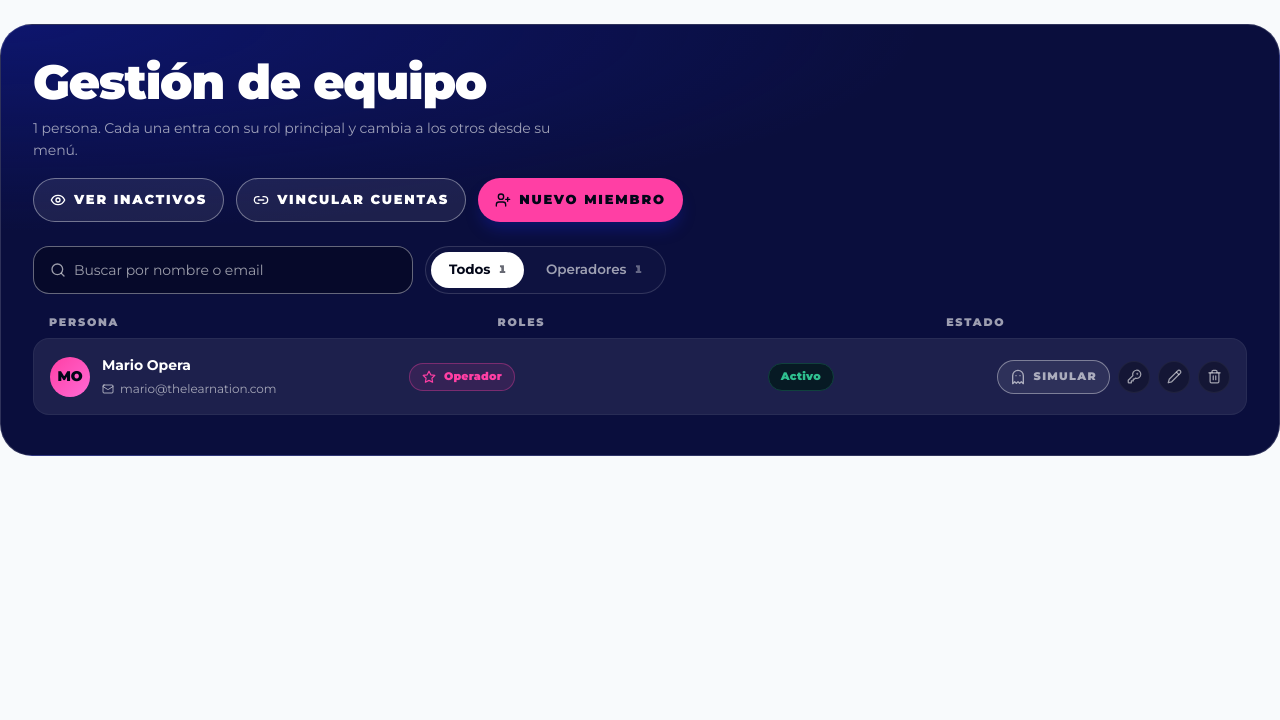
it: TeamManagementPage · modal de miembro › Escape lo cierra sin guardar
The width and height of the screenshot is (1280, 720).
Click the button titled "Editar" at (1174, 377), box [1158,361,1190,393]
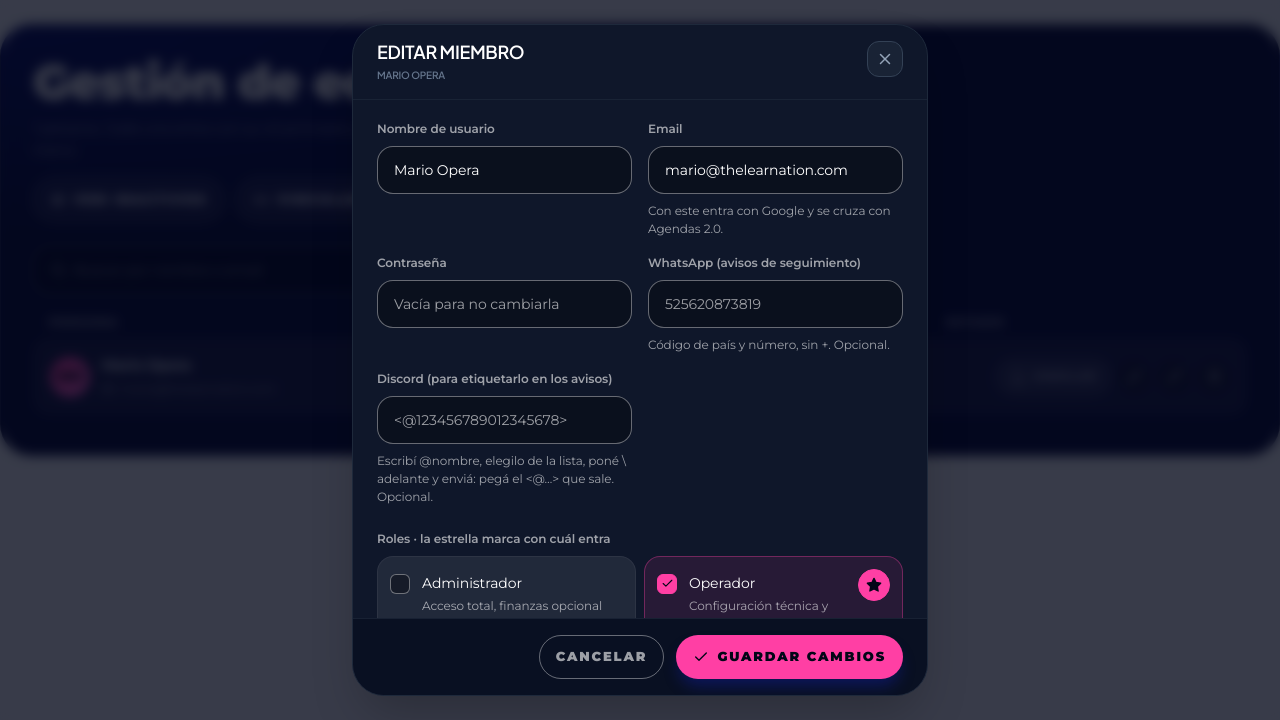
Press Escape
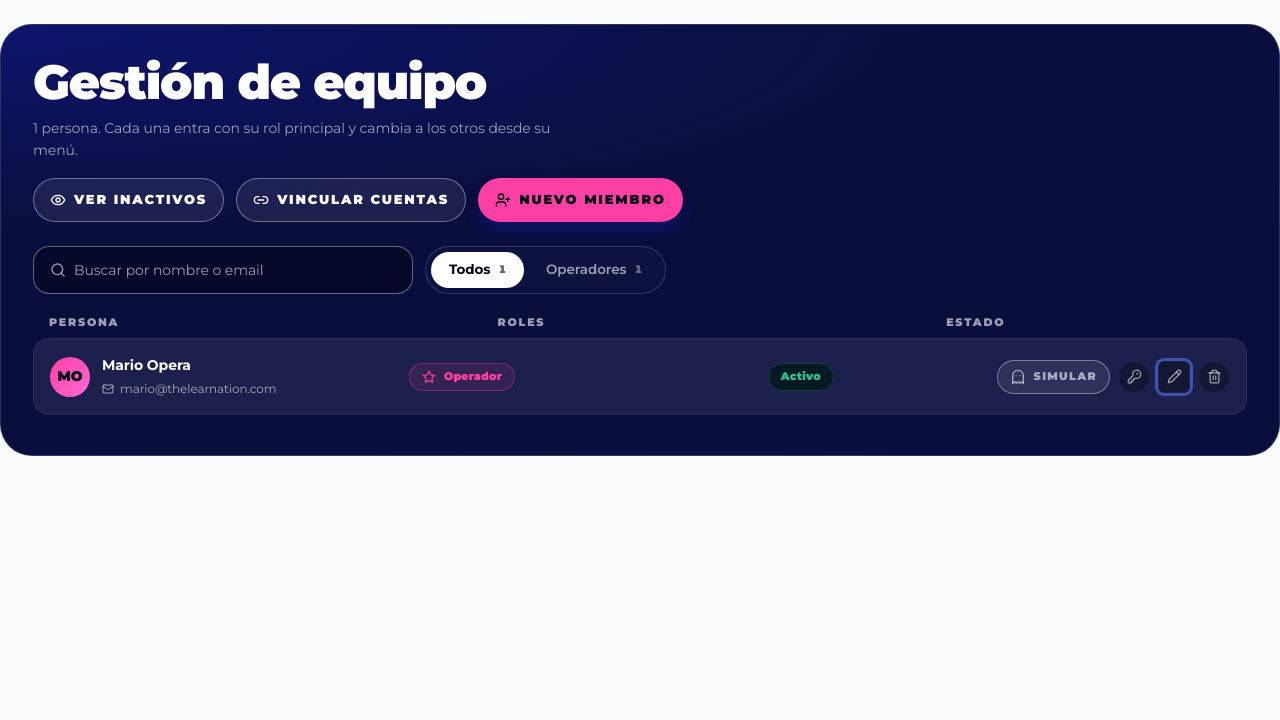
Expected: the dialog is gone
